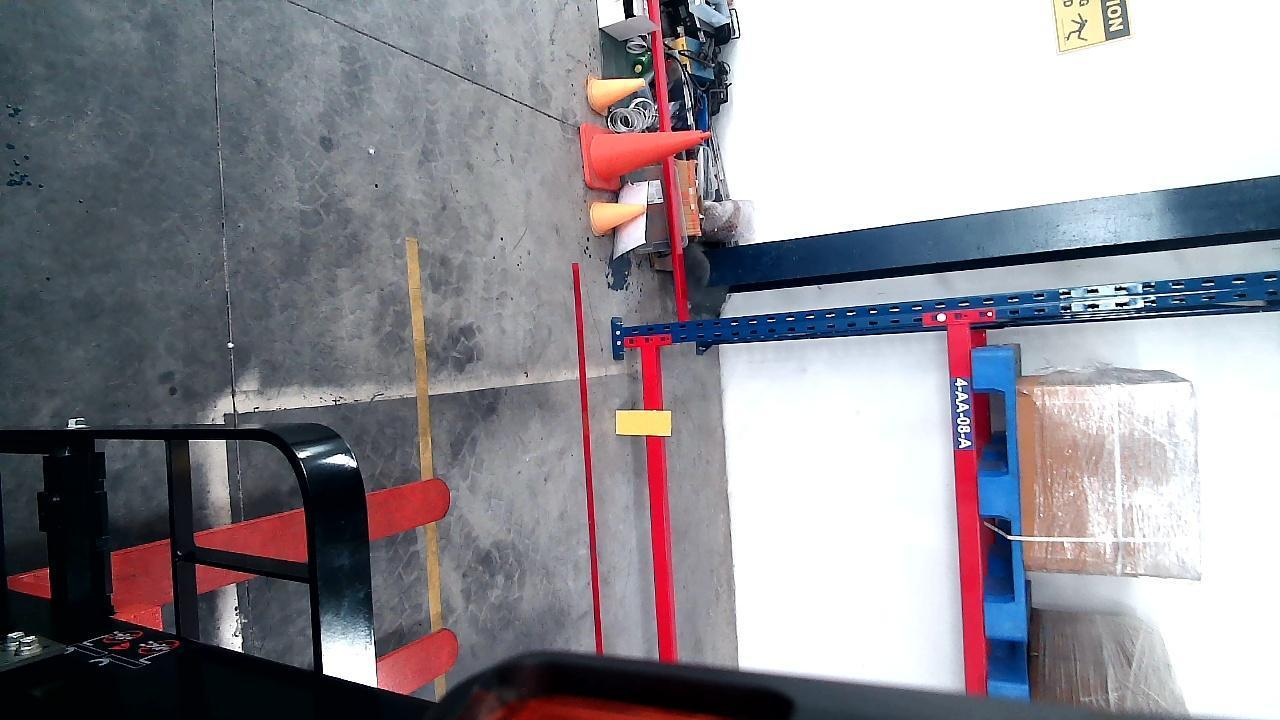h_rack: (950, 324, 984, 698), (640, 341, 675, 664)
orange_strip: (617, 409, 671, 436)
red_line: (573, 267, 607, 659)
small_pallet: (975, 343, 1024, 649)
yellow_line: (402, 234, 446, 701)
